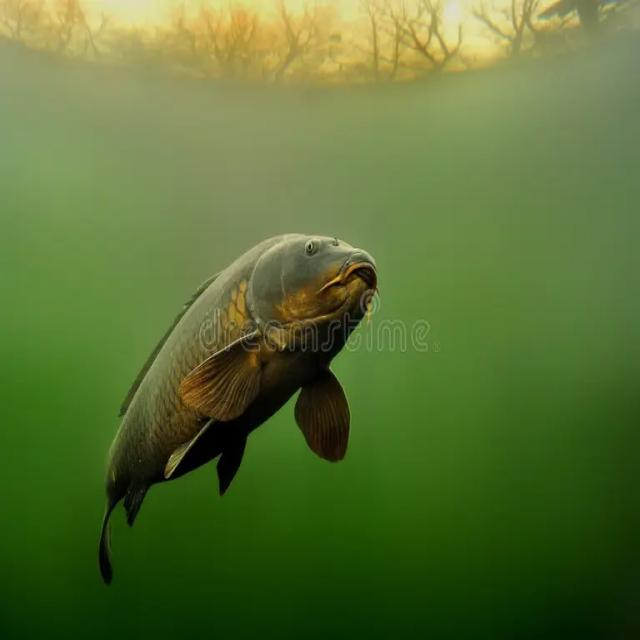Common carp: (99, 232, 378, 593)
